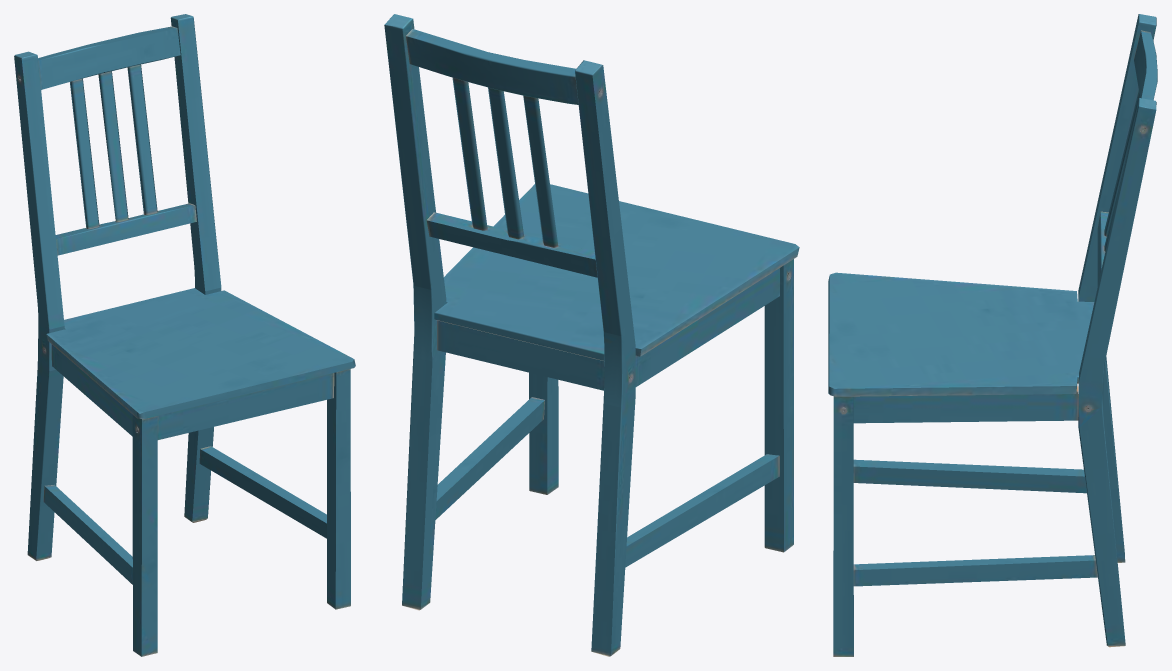
File: 05 - PINNTORP Chair - blue stainedpine.glb
The picture shows the model from 3 angles, left to right: view 1: azimuth 30°, elevation 25°; view 2: azimuth 150°, elevation 25°; view 3: azimuth 270°, elevation 25°; orthographic projection. The views are drawn at different scales.
Parts seen in each view (by area): view 1: ASY_ART_30635175_S01_NV01; view 2: ASY_ART_30635175_S01_NV01; view 3: ASY_ART_30635175_S01_NV01.
Boxes of the visible parts, <box> form: ASY_ART_30635175_S01_NV01: <box>14,14,355,656</box>; ASY_ART_30635175_S01_NV01: <box>384,14,799,656</box>; ASY_ART_30635175_S01_NV01: <box>828,14,1157,656</box>.
Size of the model in its own units: 0.4144 by 0.9004 by 0.4958.
Materials: 1 (1 with a texture image).
